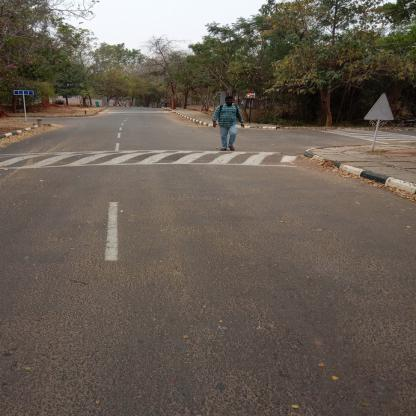speed-bumps: (0, 144, 336, 172)
